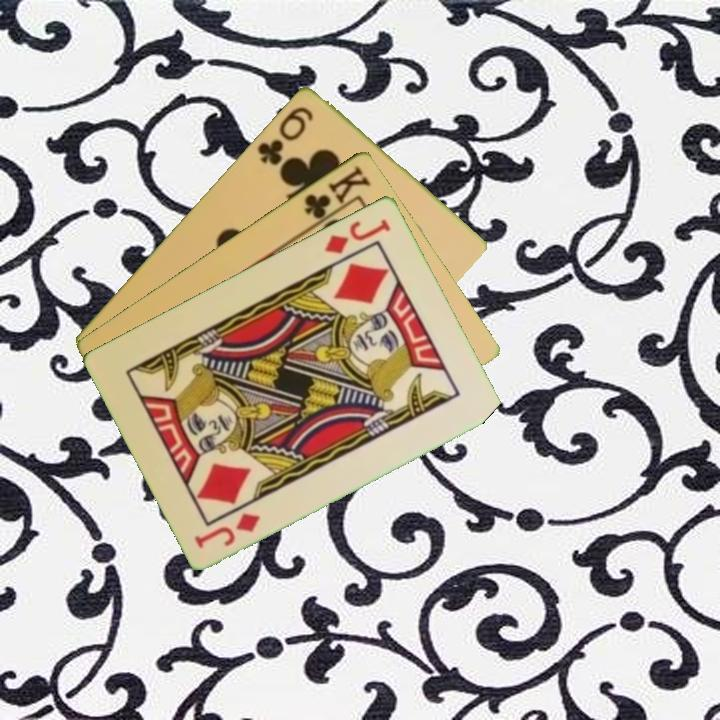6c: (253, 102, 317, 168)
Jd: (320, 215, 394, 257), (191, 508, 263, 551)
Kc: (300, 161, 374, 230)
